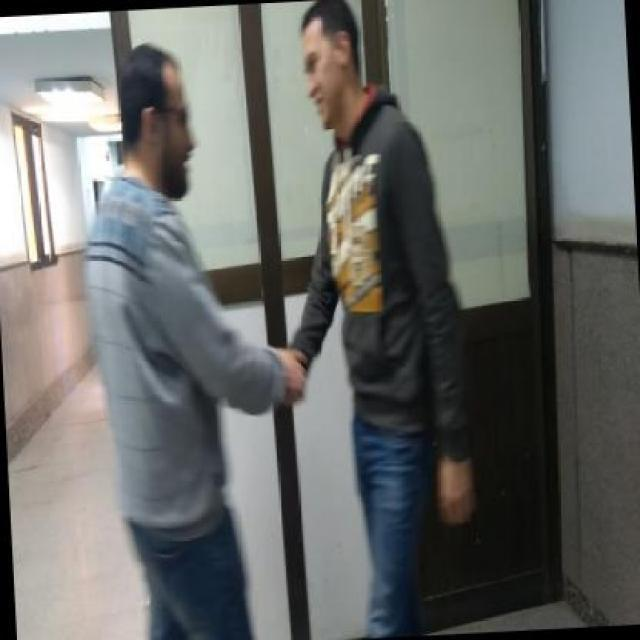non-fight: (199, 0, 478, 638), (70, 34, 364, 638)
